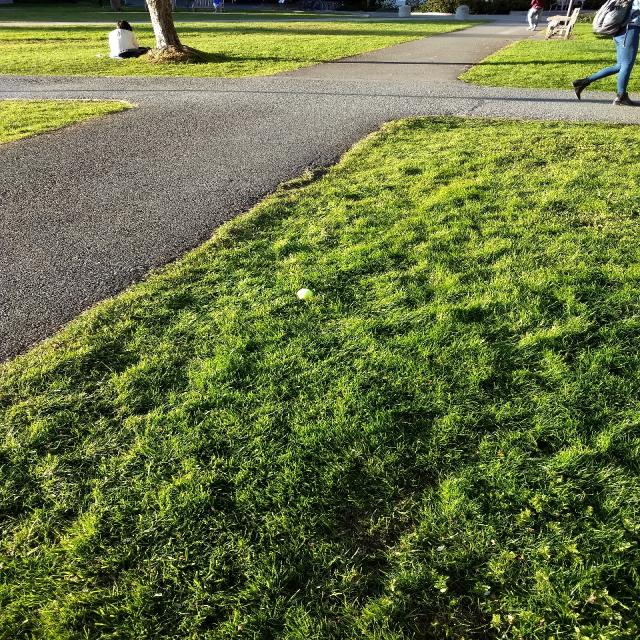Tennis-Ball: (297, 288, 314, 299)
